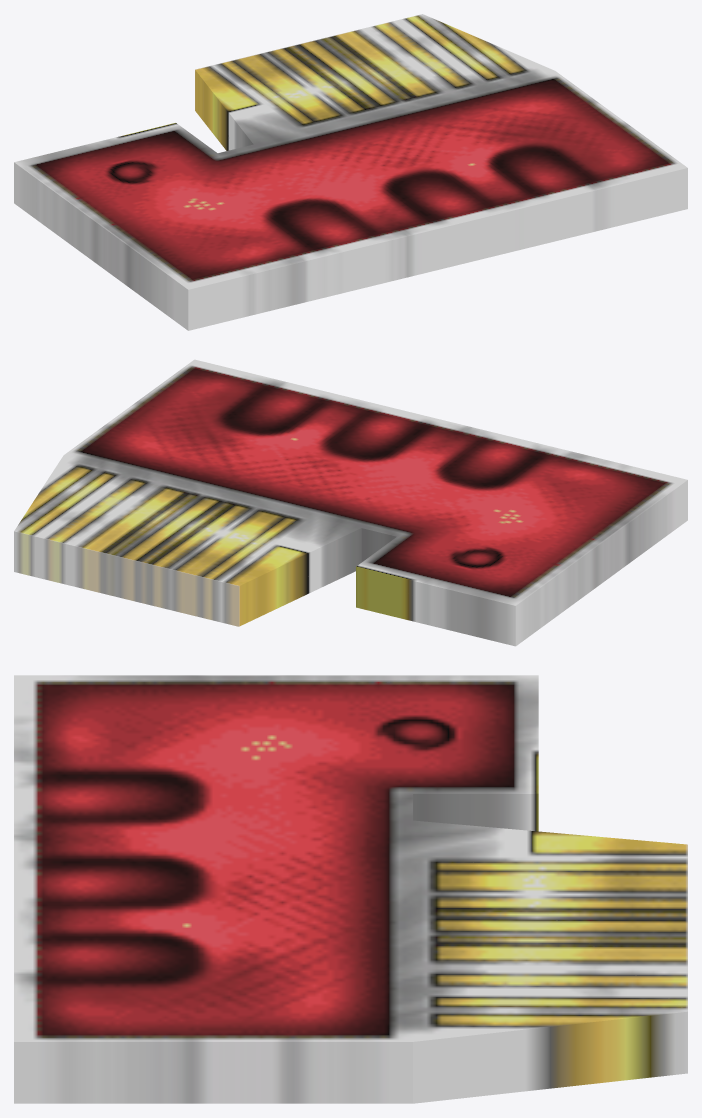
Rendered from keycard.glb.
3 renders of one model, top to bottom at view 1: azimuth 30°, elevation 25°; view 2: azimuth 150°, elevation 25°; view 3: azimuth 270°, elevation 25°, orthographic. The views are drawn at different scales.
Visible parts, largest first — view 1: keycard; view 2: keycard; view 3: keycard.
Boxes of the visible parts, x1,y1,x2,y2 form: keycard: (14, 14, 687, 330); keycard: (14, 359, 687, 646); keycard: (14, 675, 687, 1103).
Bounding box in the file's own units: 15.27 × 1.2 × 11.86.
Materials: 1 (1 with a texture image).
